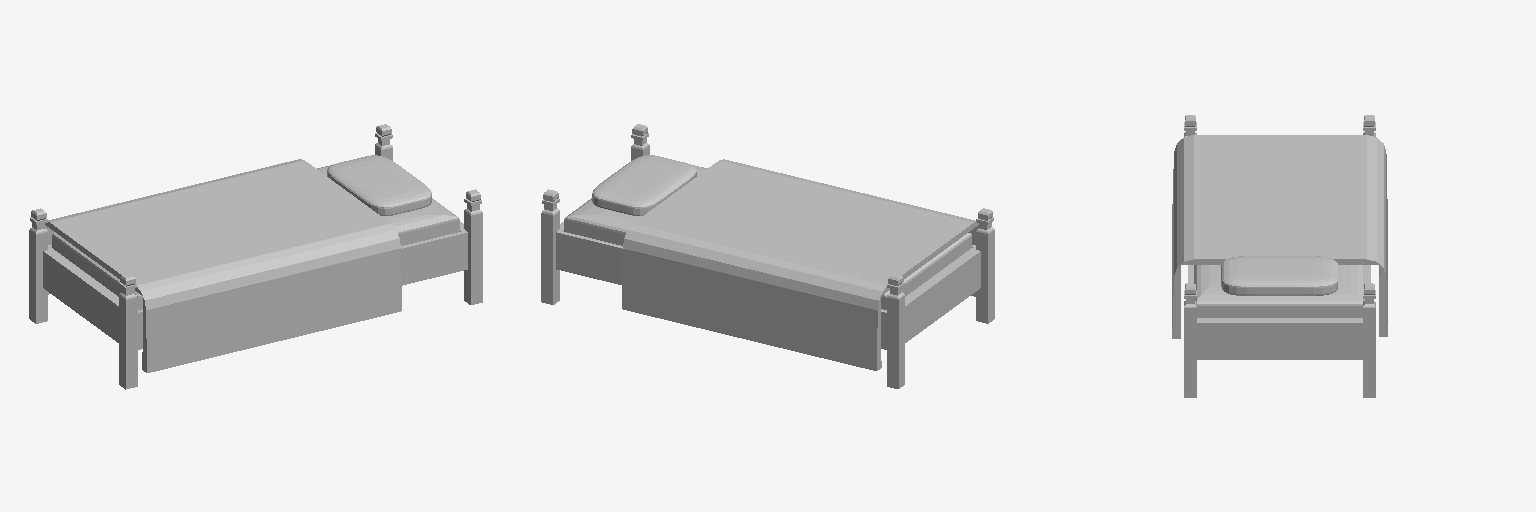
The model's file is Caminha.obj.
The picture shows the model from 3 angles: view 1: azimuth 30°, elevation 25°; view 2: azimuth 150°, elevation 25°; view 3: azimuth 270°, elevation 25°; orthographic projection.
Visible parts, largest first — view 1: Cube.001_Cube.003; view 2: Cube.001_Cube.003; view 3: Cube.001_Cube.003.
Part boxes in pixels (left/top/right/bottom): Cube.001_Cube.003: left=29, top=124, right=482, bottom=389; Cube.001_Cube.003: left=541, top=124, right=994, bottom=388; Cube.001_Cube.003: left=1172, top=115, right=1387, bottom=397.
Size of the model in its own units: 3.82 by 1.12 by 2.